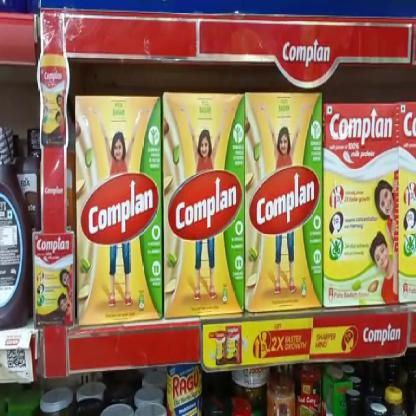Complan Pista Badam: (74, 96, 160, 326), (164, 93, 244, 317), (245, 93, 322, 311), (323, 104, 399, 306)
